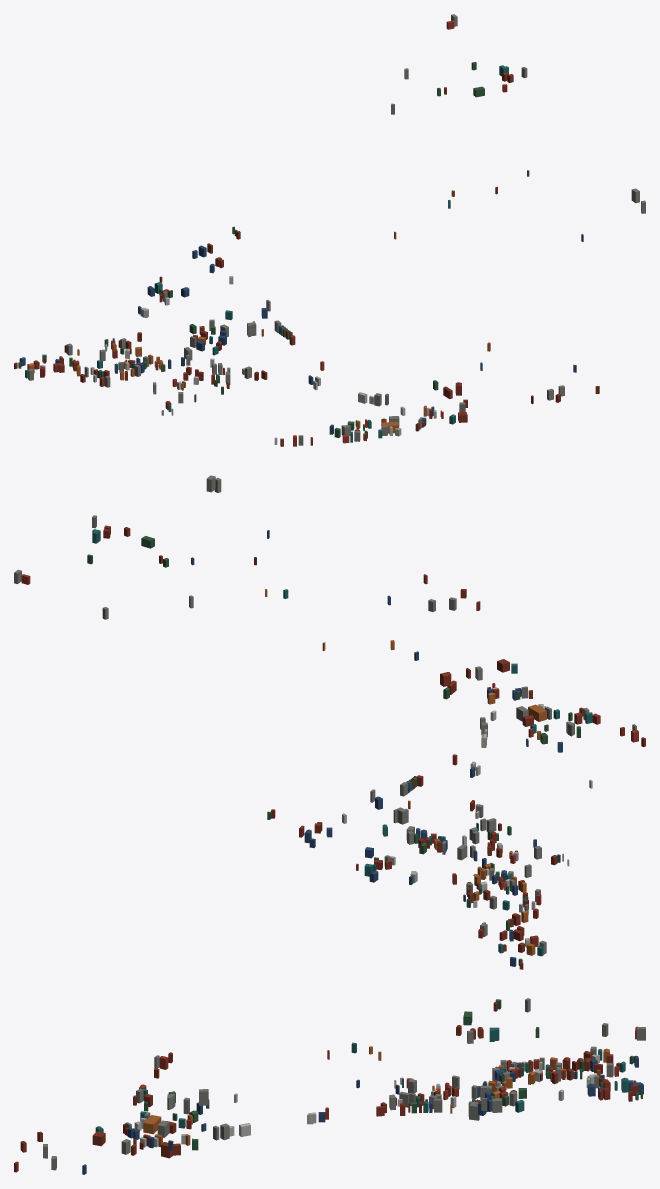
File: near-15-27357-14872.ad907031.glb
The picture shows the model from 3 angles, top to bottom: view 1: azimuth 30°, elevation 25°; view 2: azimuth 150°, elevation 25°; view 3: azimuth 270°, elevation 25°; orthographic projection. The views are drawn at different scales.
Bounding box in the file's own units: 1180 × 605 × 1142.
